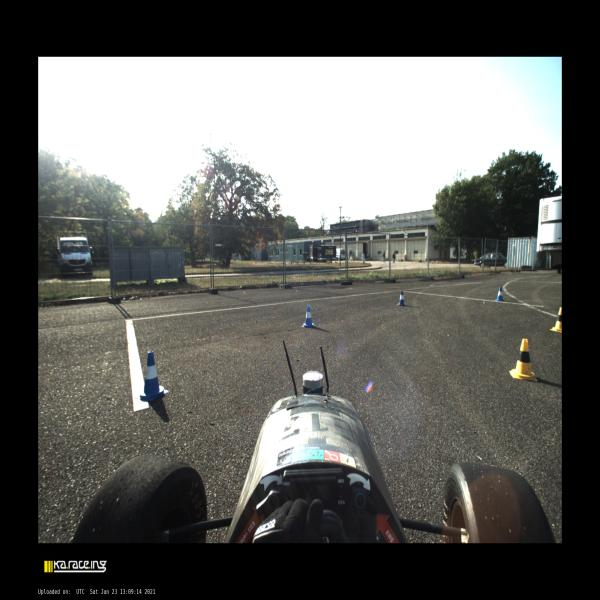blue_cone: (134, 351, 168, 401), (301, 305, 316, 327), (494, 287, 506, 301), (397, 290, 406, 306)
yellow_cone: (509, 339, 537, 381), (550, 308, 562, 332)
